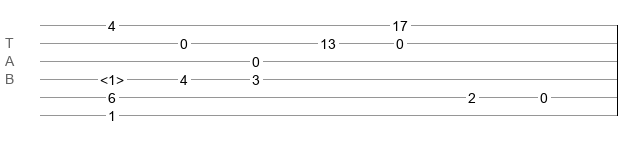0: (180, 36, 188, 46), (252, 54, 260, 64), (396, 36, 404, 46), (540, 90, 548, 100)
1: (108, 108, 116, 118)
13: (320, 36, 336, 46)
17: (392, 18, 408, 28)
2: (468, 90, 476, 100)
3: (252, 72, 260, 82)
4: (108, 18, 116, 28), (180, 72, 188, 82)
6: (108, 90, 116, 100)
harmonic: (100, 72, 124, 82)
